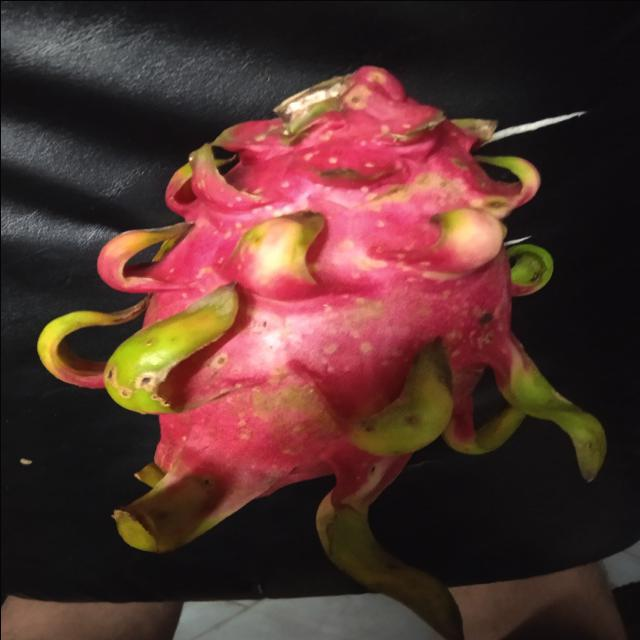do: (35, 58, 603, 639)
